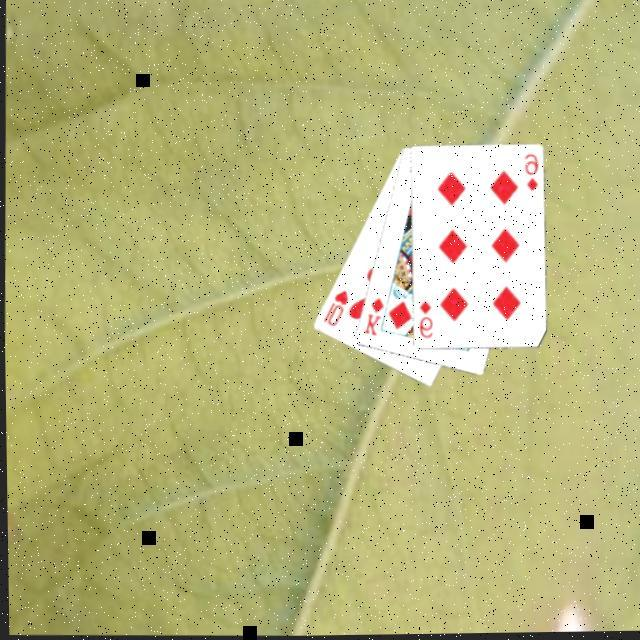10H: (319, 288, 351, 331)
6D: (416, 300, 436, 343), (521, 153, 541, 196)
KD: (360, 296, 388, 340)
